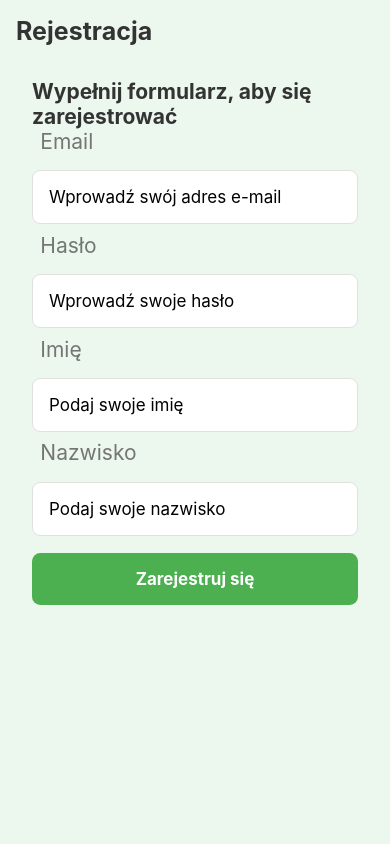
Test case: Komponent Zarejestruj się › Wyświetla błąd przy nieudanej rejestracji
Type "test@example.com" into the field with placeholder "Wprowadź swój adres e-mail" at [195, 197], box [32, 170, 358, 224]
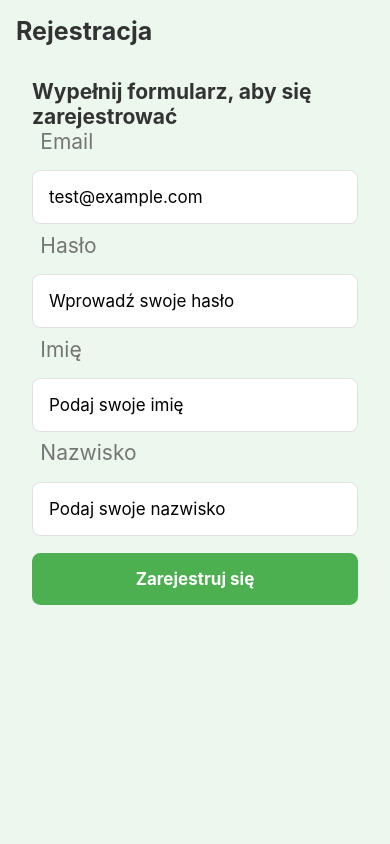
Type "testpassword" into the password field with placeholder "Wprowadź swoje hasło" at [195, 301], box [32, 274, 358, 328]
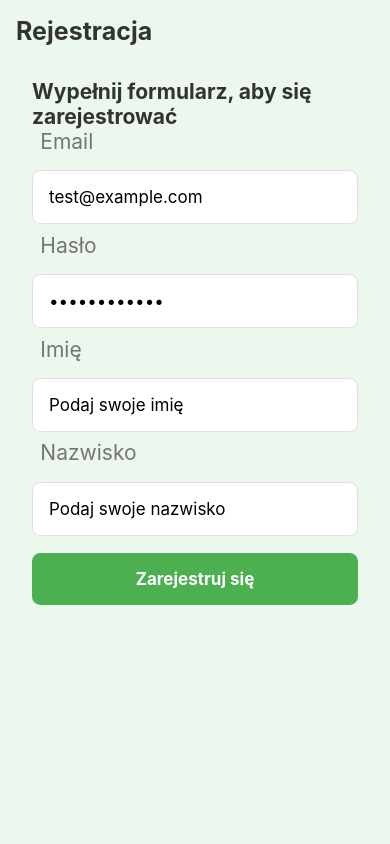
Type "Jan" into the field with placeholder "Podaj swoje imię" at [195, 405], box [32, 378, 358, 432]
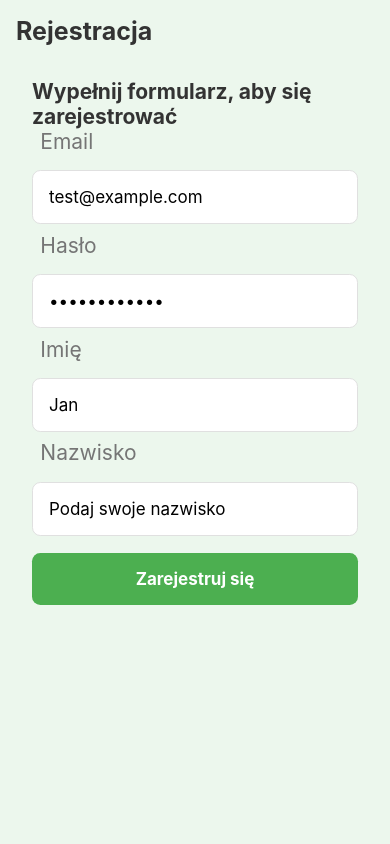
Type "Kowalski" into the field with placeholder "Podaj swoje nazwisko" at [195, 509], box [32, 482, 358, 536]
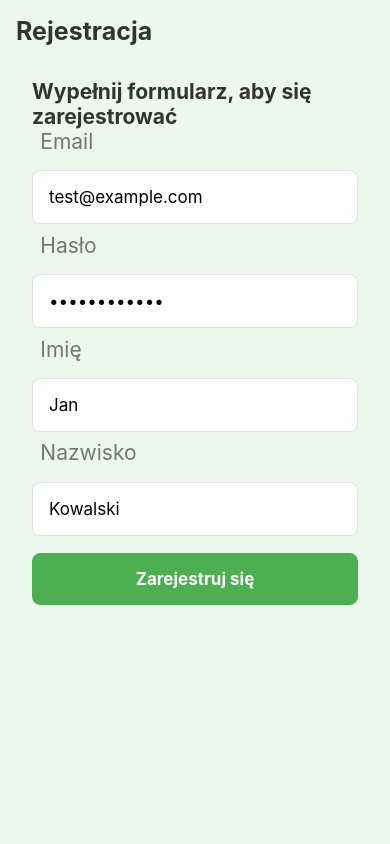
Click the text "Zarejestruj się" at [195, 579], box [136, 569, 254, 589]
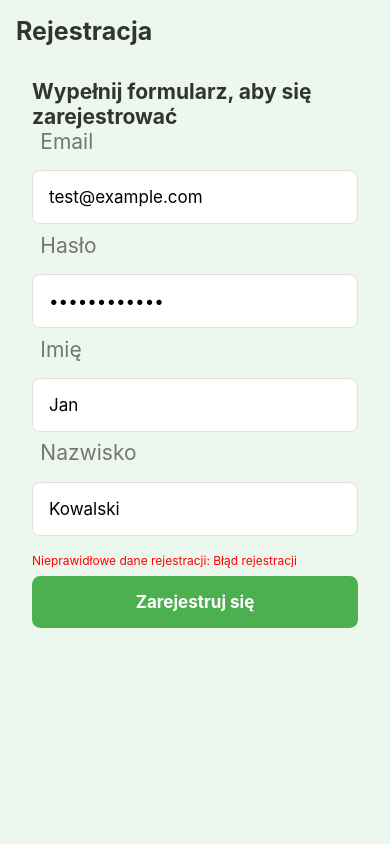
Check: the text "Nieprawidłowe dane rejestracji: Błąd rejestracji" is shown, box [32, 553, 297, 568]
